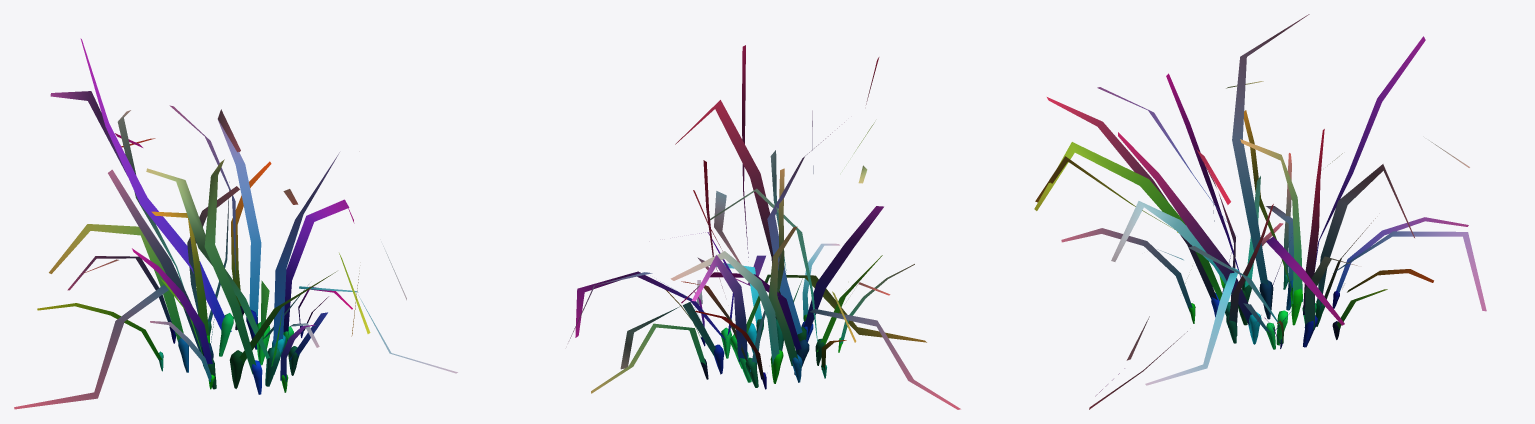
Rendered from Ribbon_Grass_tbdpec3r_High_tbdpec3r_VarB_LOD1.glb.
3 renders of one model, left to right at view 1: azimuth 30°, elevation 25°; view 2: azimuth 150°, elevation 25°; view 3: azimuth 270°, elevation 25°, orthographic. The views are drawn at different scales.
Visible parts, largest first — view 1: _32d4_VarB_LOD2; view 2: _32d4_VarB_LOD2; view 3: _32d4_VarB_LOD2.
Part boxes in pixels (x1,y1,x2,y2): _32d4_VarB_LOD2: [14, 38, 457, 409]; _32d4_VarB_LOD2: [568, 45, 960, 409]; _32d4_VarB_LOD2: [1034, 14, 1486, 409].
Bounding box in the file's own units: 0.5301 × 0.4495 × 0.6289.
